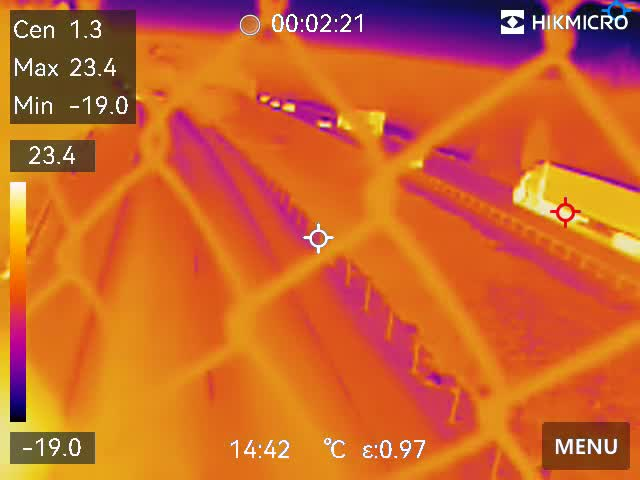heavyTruck: (509, 150, 640, 248), (334, 109, 384, 137)
vehicle: (314, 116, 334, 132), (281, 99, 299, 113), (257, 92, 269, 103), (268, 97, 278, 110)
